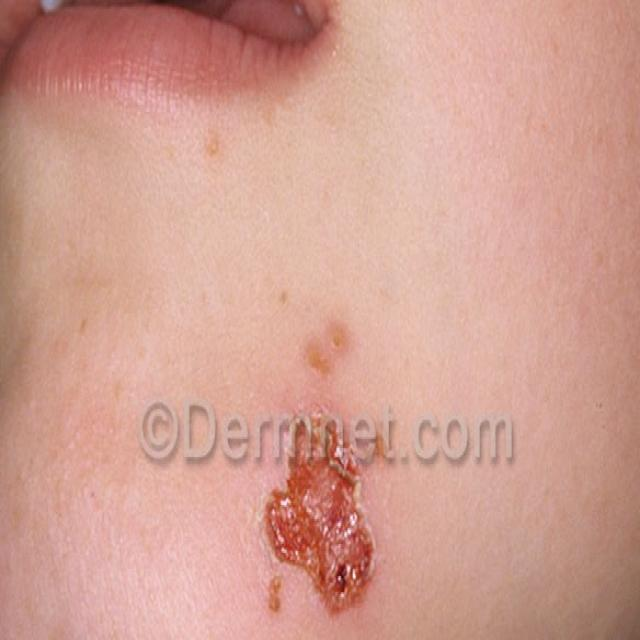Viral Infections: (256, 400, 388, 640)
